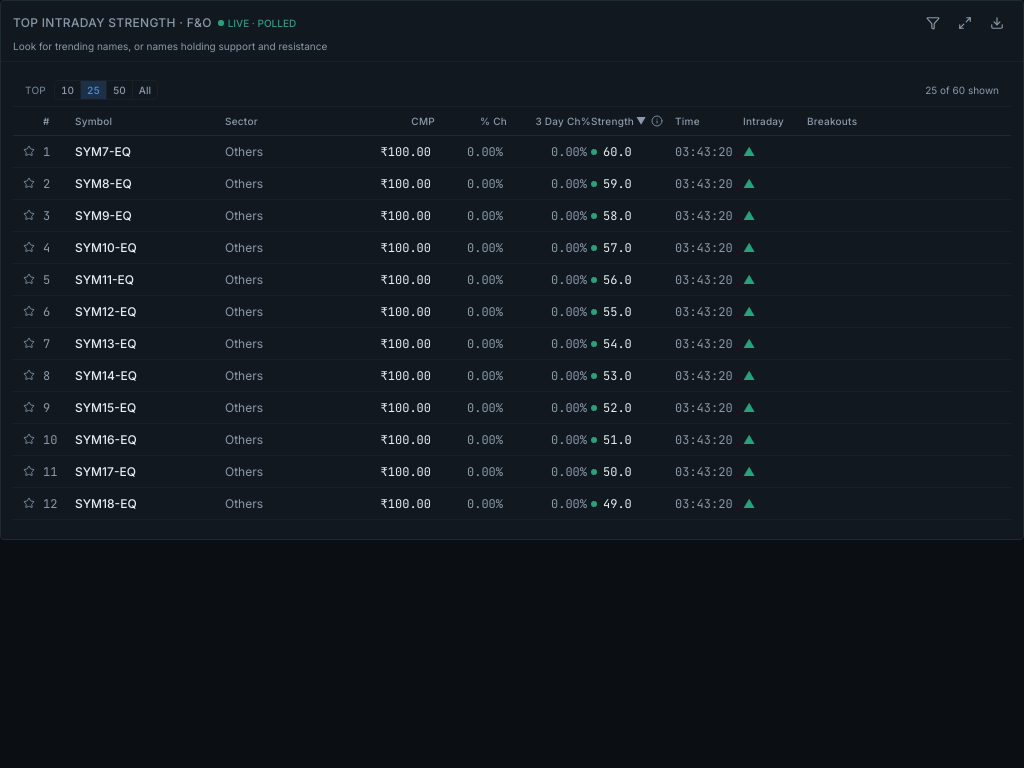
it: TopStrengthTable › the Top N control limits how many rows render
The image size is (1024, 768).
Expected: the text "25 of 60 shown" is shown, [925, 83, 999, 97]
Click the radio button labelled "10". click: (68, 90)
box: [55, 81, 80, 99]
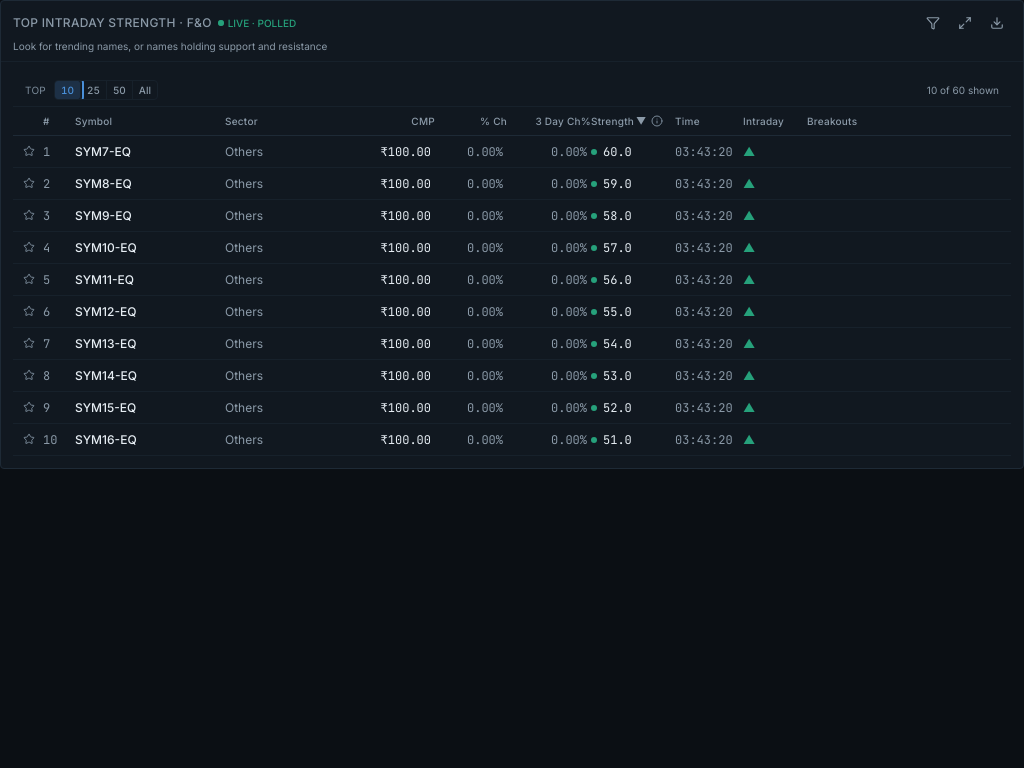
Expected: the text "10 of 60 shown" is shown, [927, 83, 999, 97]
Click the radio button labelled "all". click: (144, 90)
box: [132, 81, 157, 99]
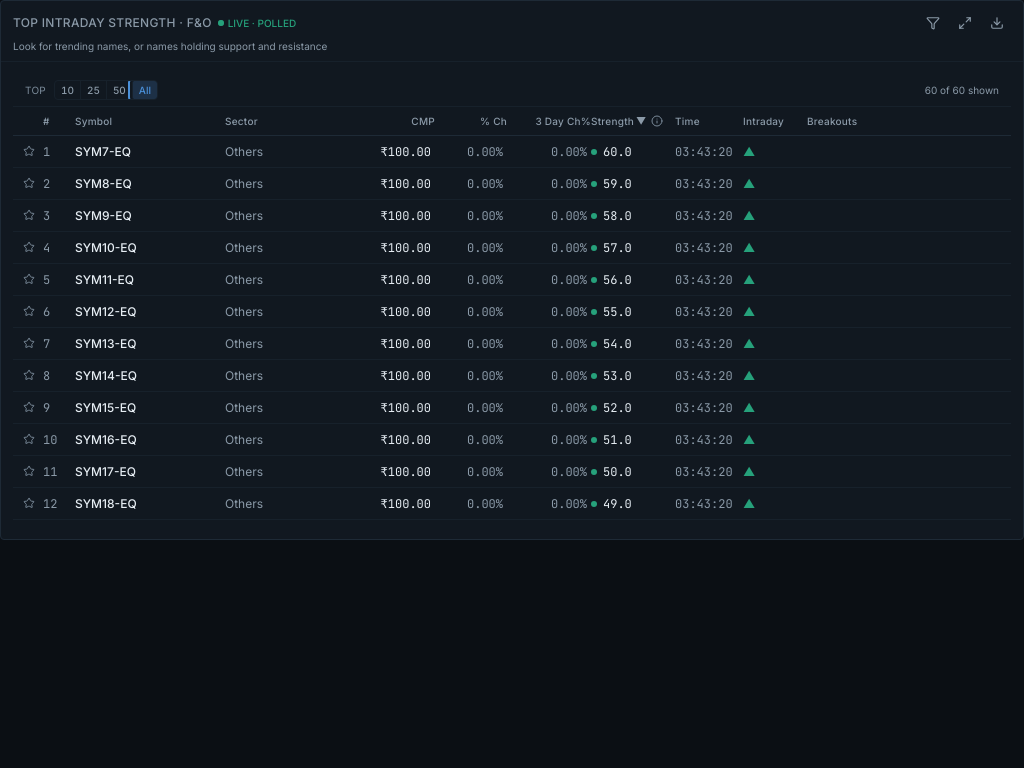
Expected: the text "60 of 60 shown" is shown, [925, 83, 999, 97]
